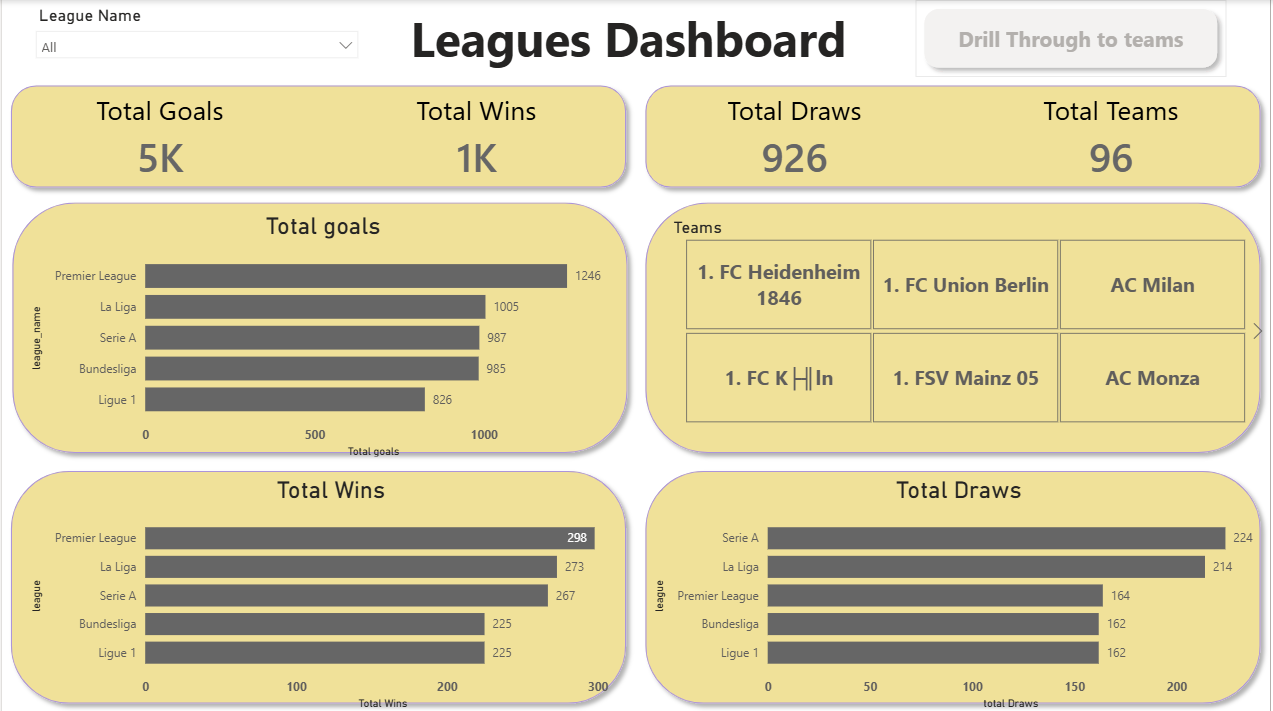

What the dashboard file says about the page in this screenshot:
{"tool":"powerbi","page":{"name":"League Dashboard","canvas":[1280,720],"ordinal":0},"visuals":[{"type":"shape","box":[0,77.2,639,121.1],"z":0,"group":"g1"},{"type":"group","id":"g1","title":"Group 1","box":[0,77.2,1279.5,642],"z":0},{"type":"textbox","box":[407.4,0,461.1,77.4],"z":1000},{"type":"shape","box":[640.5,77.2,639,121.1],"z":1000,"group":"g1"},{"type":"cardVisual","fields":{"Data":["Sum(league_analytic.total_goals)"]},"box":[0,77.2,319.5,121.1],"z":2000},{"type":"shape","box":[1.5,195.3,639,271],"z":2000,"group":"g1"},{"type":"cardVisual","fields":{"Data":["Sum(league_analytic.total_draws)"]},"box":[640.5,77.2,319.5,121.1],"z":3000},{"type":"shape","box":[640.5,195.3,639,271],"z":3000,"group":"g1"},{"type":"cardVisual","fields":{"Data":["Sum(league_analytic.total_teams)"]},"box":[960,77.2,319.5,121.1],"z":4000},{"type":"shape","box":[640.5,466.4,639,252.9],"z":4000,"group":"g1"},{"type":"cardVisual","fields":{"Data":["Sum(league_analytic.total_wins)"]},"box":[319.5,77.2,319.5,121.1],"z":5000},{"type":"shape","box":[0,466.4,639,252.9],"z":5000,"group":"g1"},{"type":"barChart","title":"Total goals","fields":{"Y":["Sum(league_analytic.total_goals)"],"Category":["league_analytic.league_name"]},"box":[23.7,213.2,600,252.6],"z":6000},{"type":"barChart","title":"Total Wins","fields":{"Category":["league_analytic.league_name"],"Y":["Sum(league_analytic.total_wins)"]},"box":[23.7,480,615.8,240],"z":7000},{"type":"barChart","title":"Total Draws","fields":{"Category":["league_analytic.league_name"],"Y":["Sum(league_analytic.total_draws)"]},"box":[652.1,480,626.9,240],"z":8000},{"type":"slicer","fields":{"Values":["league_analytic.league_name"]},"box":[24.2,0,345.2,77.2],"z":9000},{"type":"slicer","title":"Total Wins","fields":{"Values":["gold teams_analytic (2).team_name"]},"box":[664.7,213.2,614.2,219.5],"z":10000},{"type":"actionButton","box":[922.2,0,313.4,77.2],"z":11000}]}

Visuals, with their boxes in screenshot pixels (x1, y1, x2, y2), scaled from the page's 1280x720 canvas onto the 1273x711 screenshot:
shape: x1=0 y1=76 x2=636 y2=196
"Group 1" group: x1=0 y1=76 x2=1272 y2=710
textbox: x1=405 y1=0 x2=864 y2=76
shape: x1=637 y1=76 x2=1272 y2=196
cardVisual - Sum(league_analytic.total_goals): x1=0 y1=76 x2=318 y2=196
shape: x1=1 y1=193 x2=637 y2=460
cardVisual - Sum(league_analytic.total_draws): x1=637 y1=76 x2=955 y2=196
shape: x1=637 y1=193 x2=1272 y2=460
cardVisual - Sum(league_analytic.total_teams): x1=955 y1=76 x2=1272 y2=196
shape: x1=637 y1=461 x2=1272 y2=710
cardVisual - Sum(league_analytic.total_wins): x1=318 y1=76 x2=636 y2=196
shape: x1=0 y1=461 x2=636 y2=710
"Total goals" barChart: x1=24 y1=211 x2=620 y2=460
"Total Wins" barChart: x1=24 y1=474 x2=636 y2=710
"Total Draws" barChart: x1=649 y1=474 x2=1272 y2=710
slicer - league_analytic.league_name: x1=24 y1=0 x2=367 y2=76
"Total Wins" slicer: x1=661 y1=211 x2=1272 y2=427
actionButton: x1=917 y1=0 x2=1229 y2=76
